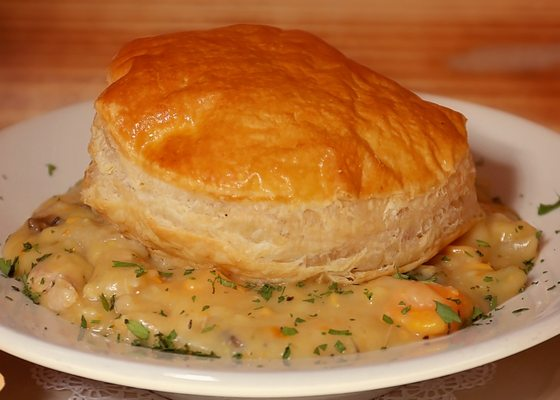soup: (4, 18, 525, 363)
